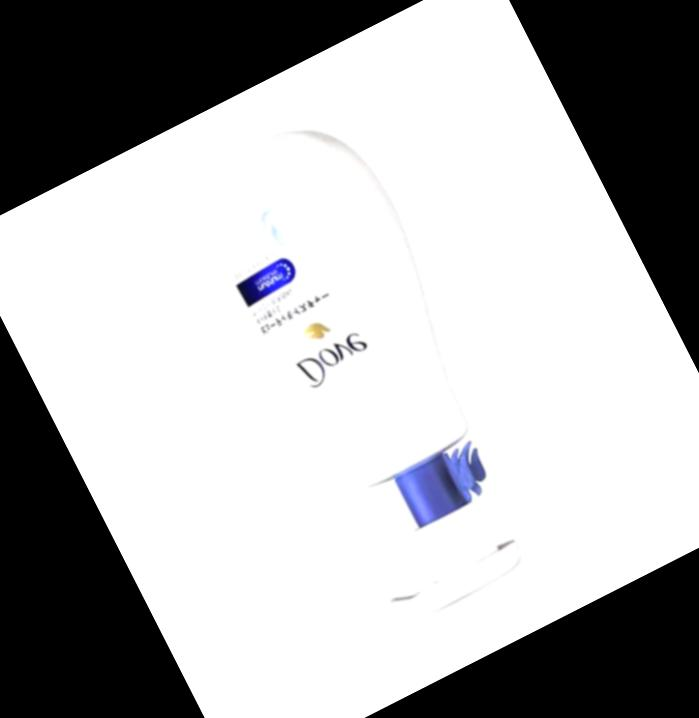cosmetic: (160, 94, 572, 639)
